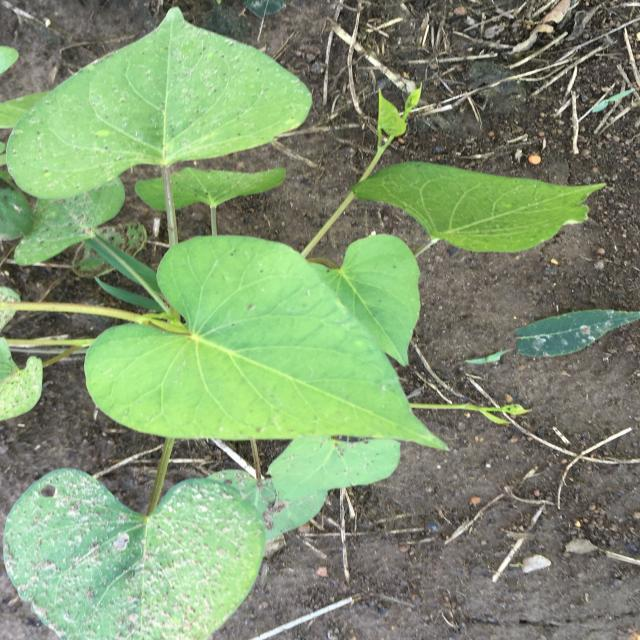MorningGlory: (0, 5, 604, 640)
